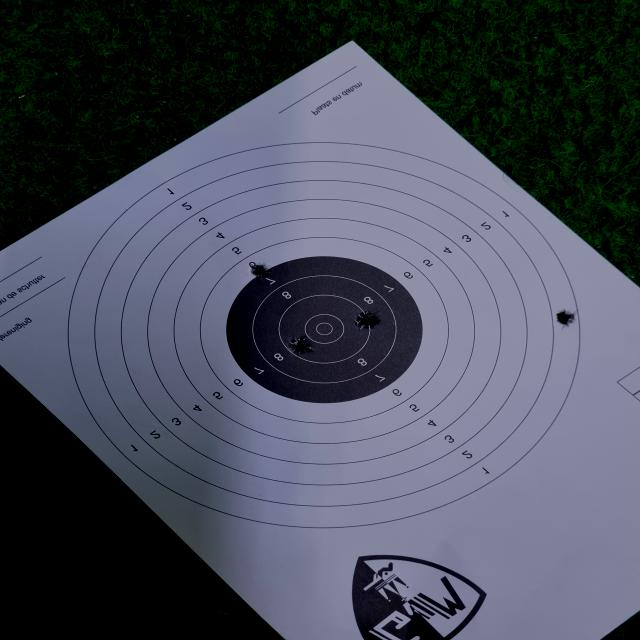1: (552, 308, 579, 330)
7: (248, 262, 272, 278)
9: (288, 336, 314, 354), (355, 311, 381, 328)
Target: (67, 140, 582, 530)
black_contour: (226, 254, 424, 405)
